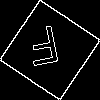F: (25, 25, 64, 76)
